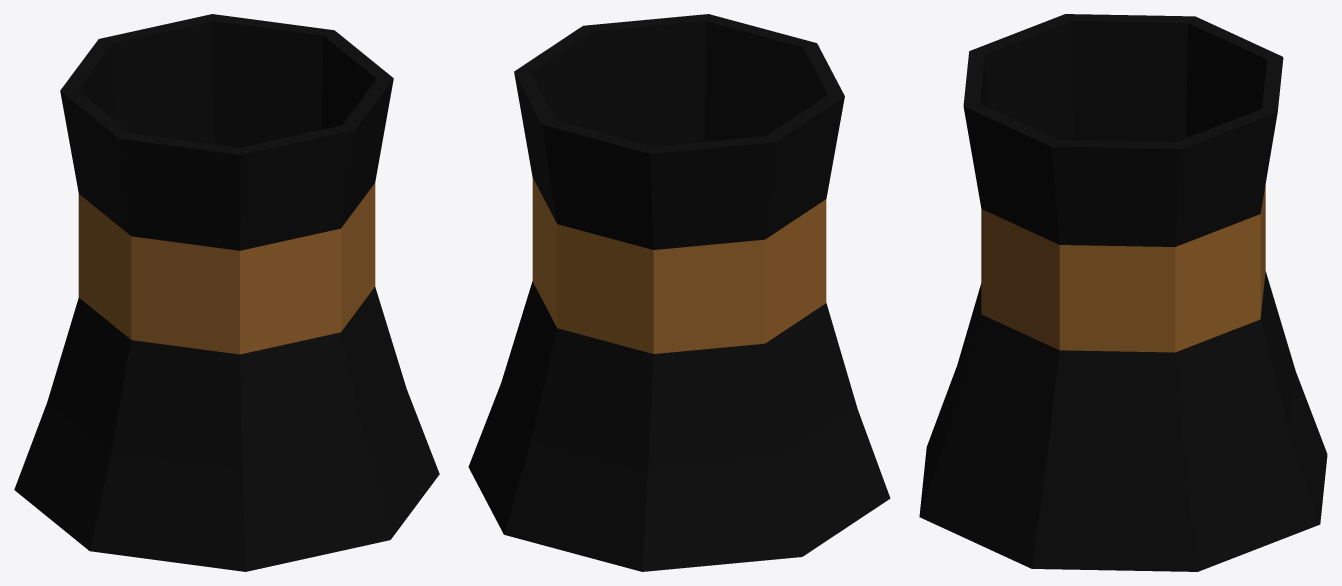
File: factory_tower_1.FBX
3 views of the same model, side by side, from view 1: azimuth 30°, elevation 25°; view 2: azimuth 150°, elevation 25°; view 3: azimuth 270°, elevation 25° (orthographic).
Parts seen in each view (by area): view 1: factory_tower_1; view 2: factory_tower_1; view 3: factory_tower_1.
Part boxes in pixels (x1=…): factory_tower_1: x1=14, y1=14, x2=439, y2=571; factory_tower_1: x1=468, y1=14, x2=890, y2=571; factory_tower_1: x1=919, y1=14, x2=1327, y2=571.
Size of the model in its own units: 180 by 197 by 180.
